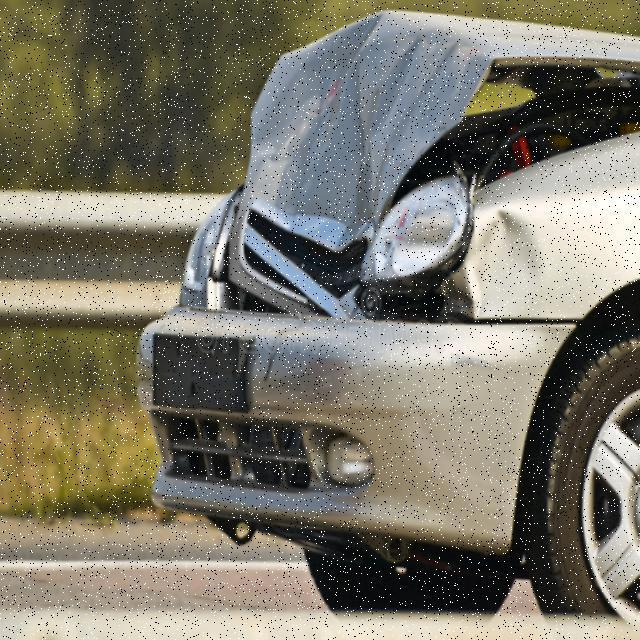bonnet-dent: (219, 8, 472, 307)
fender-dent: (452, 156, 639, 390)
